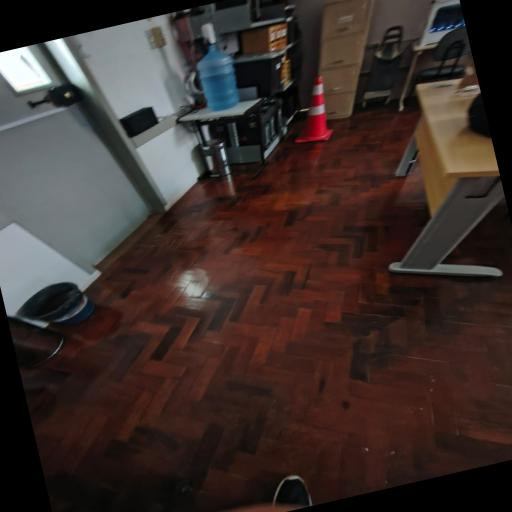cone: (276, 67, 342, 150)
